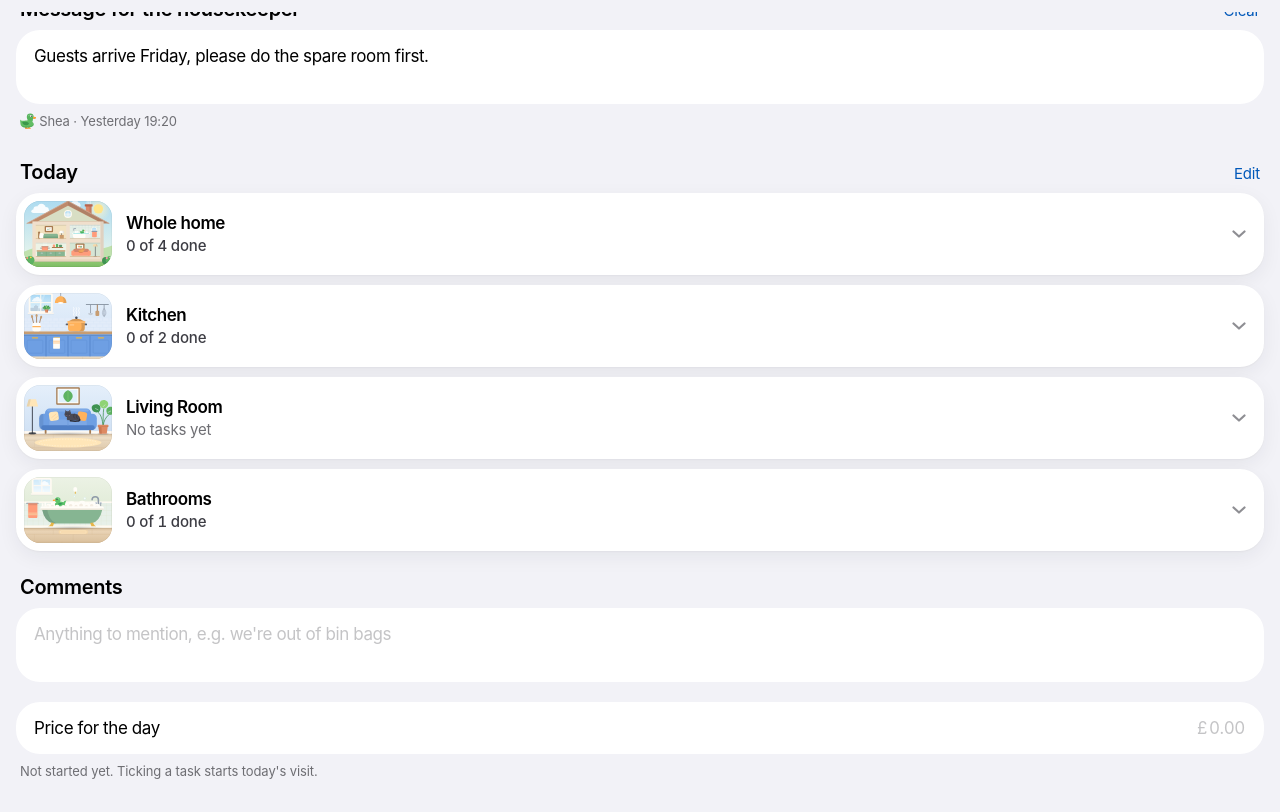
Test: HousekeepingScreen › an area with no tasks says so and opens to Add Task; an empty section no area is called is left out
(page scrolled)
Click the button "Living Room No tasks yet".
click(68, 418)  # box [16,377,1264,459]
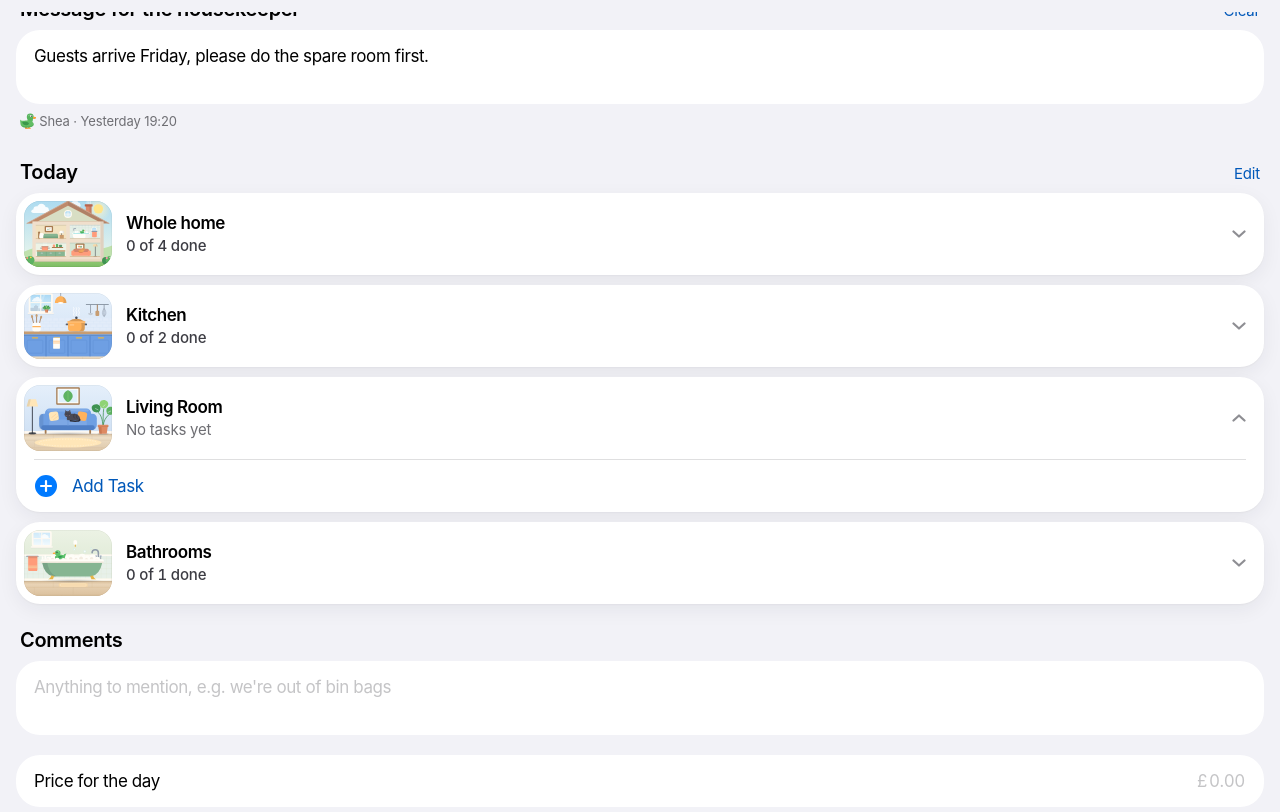
Expected: the button with aria-label "Add Task to Living Room" is shown, [16,460,1264,512]
